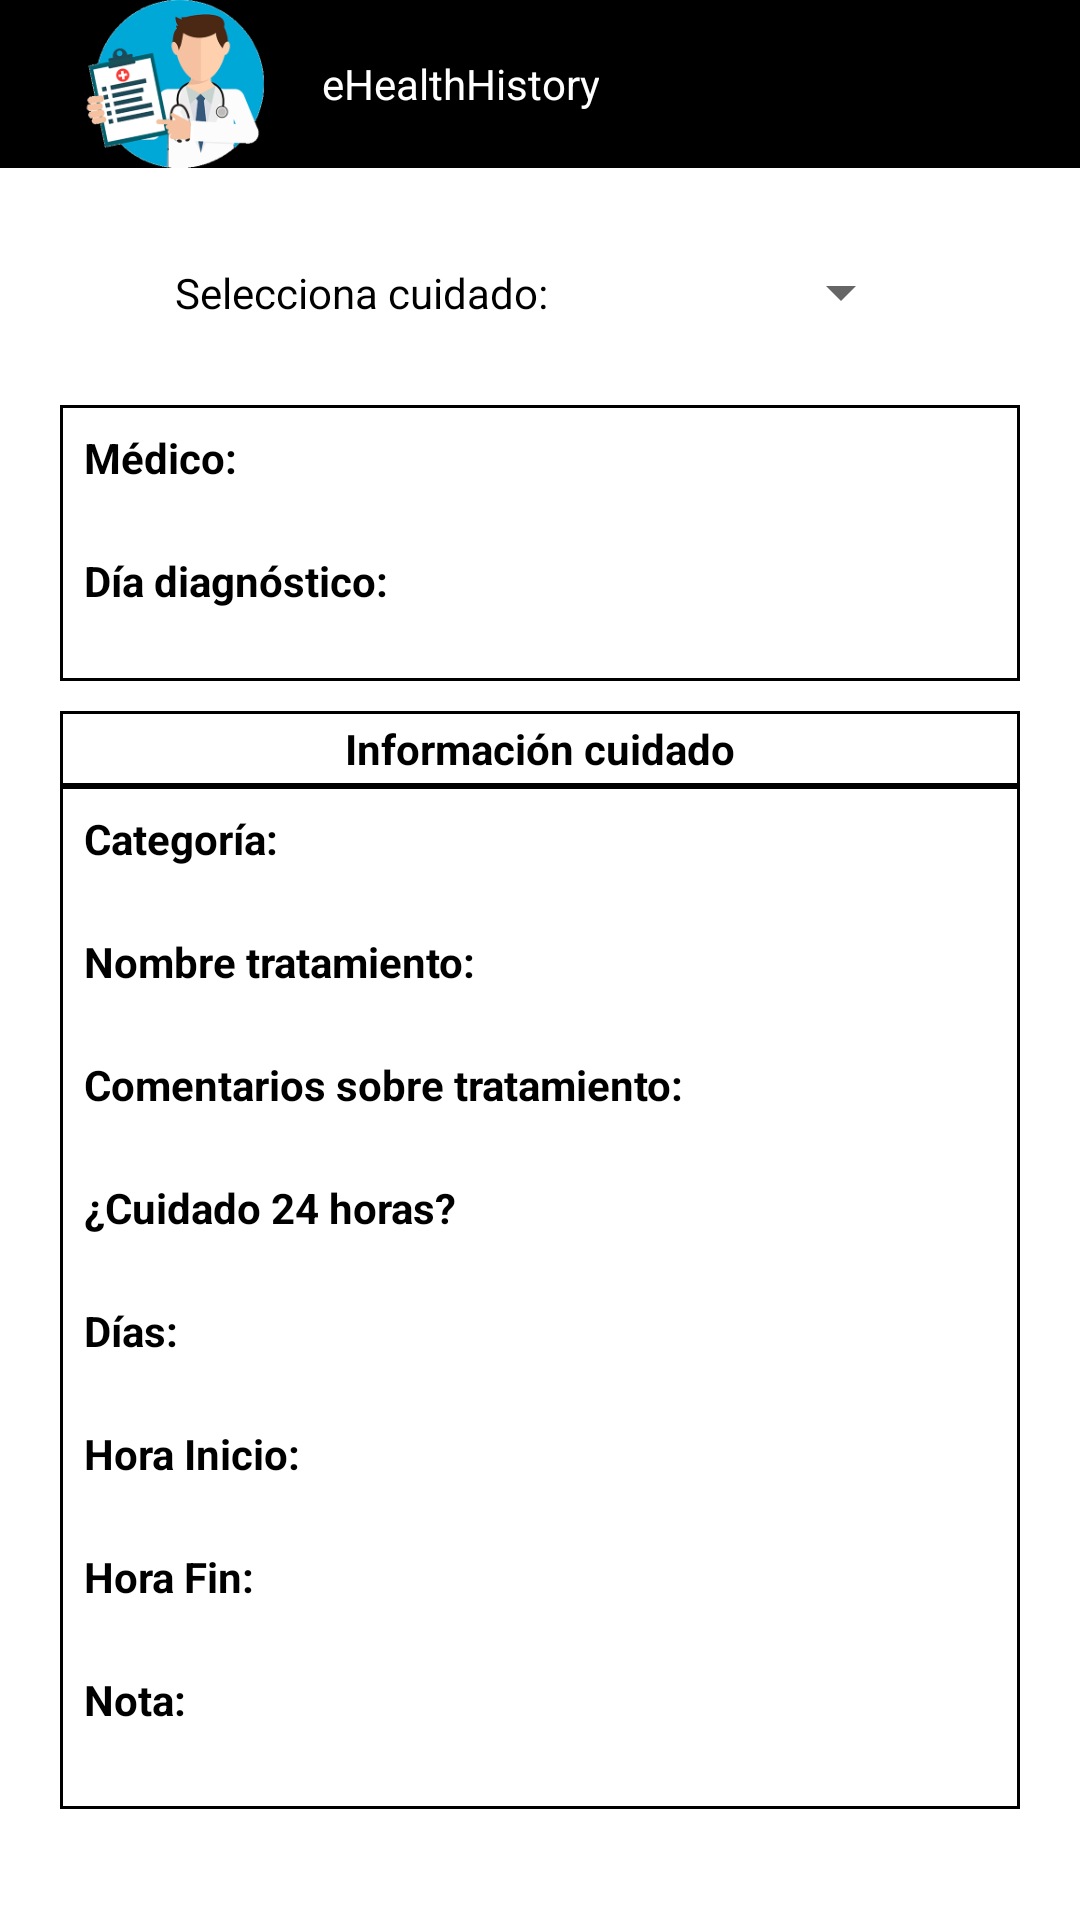

Named icons in this screenshot (1080w x 1920h) and their centers, (x,y):
Imagen de la aplicación: (175,84)
